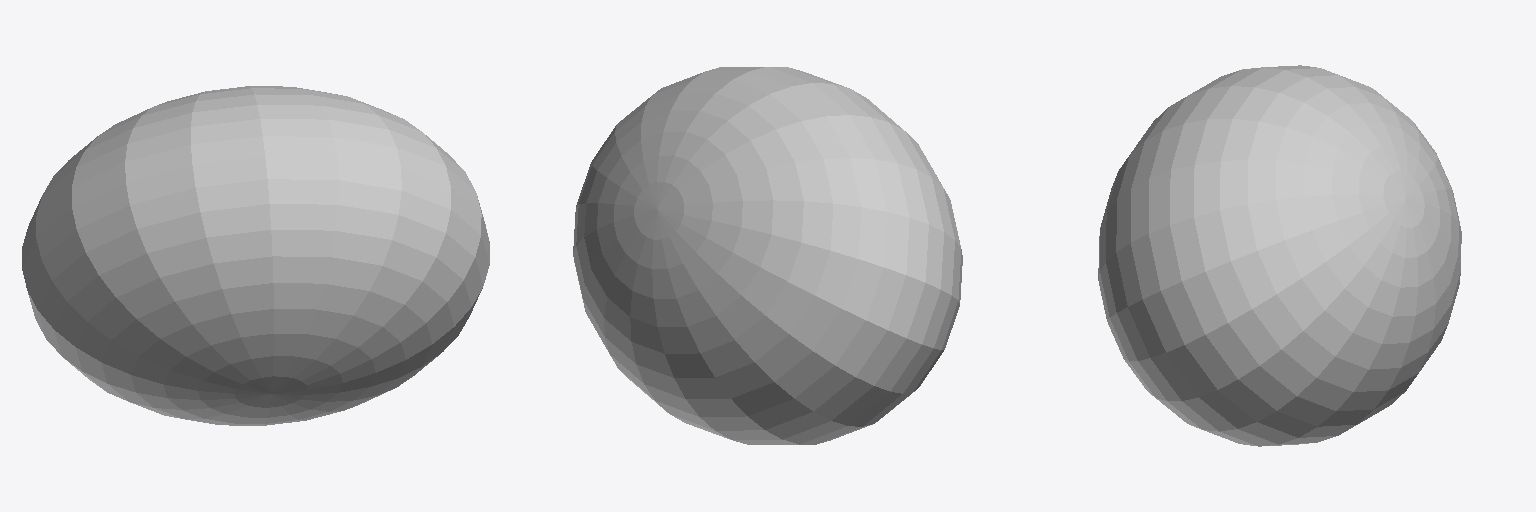
File: langue_boule.obj
The picture shows the model from 3 angles: view 1: azimuth 30°, elevation 25°; view 2: azimuth 150°, elevation 25°; view 3: azimuth 270°, elevation 25°; orthographic projection.
Size of the model in its own units: 19.44 by 15.62 by 15.75.